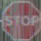Stop: (2, 0, 35, 40)
